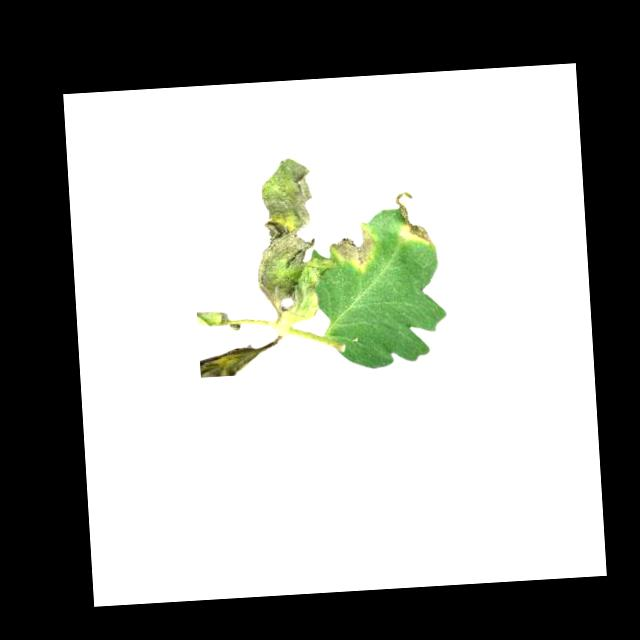Late_blight: (247, 155, 336, 325), (394, 187, 433, 249), (333, 224, 376, 273)
